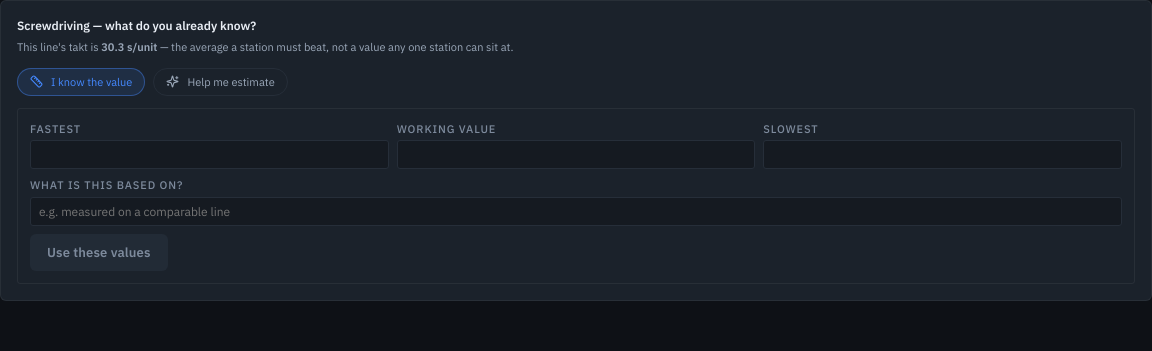
Test: both paths are offered › shows only one route at a time
The image size is (1152, 351).
What coordinates should you click on to do the following:
click the tab with test id "estimate-mode-assist"
I would click on:
 (221, 82)
Its box is [153,68,288,96].
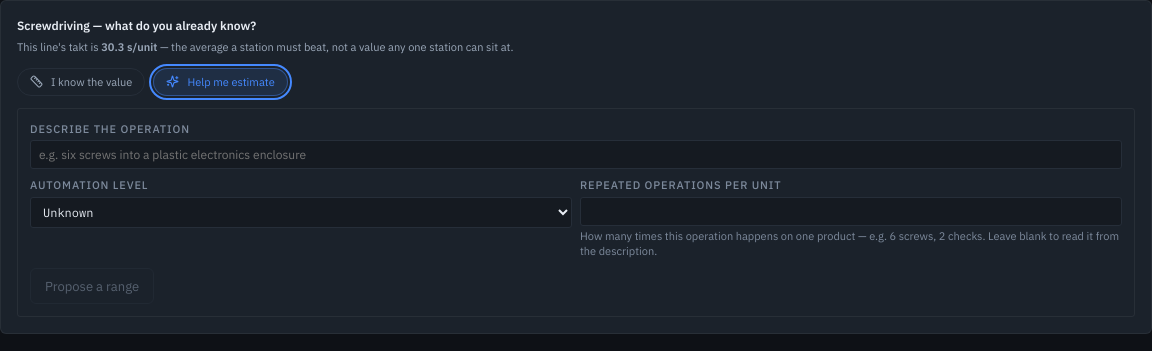
expect the element with test id "estimate-assist-form" is shown: met, box [17,108,1135,317]
What coordinates should you click on to do the following:
click the tab with test id "estimate-mode-known"
I would click on:
 (81, 82)
Its box is [17,68,145,96].
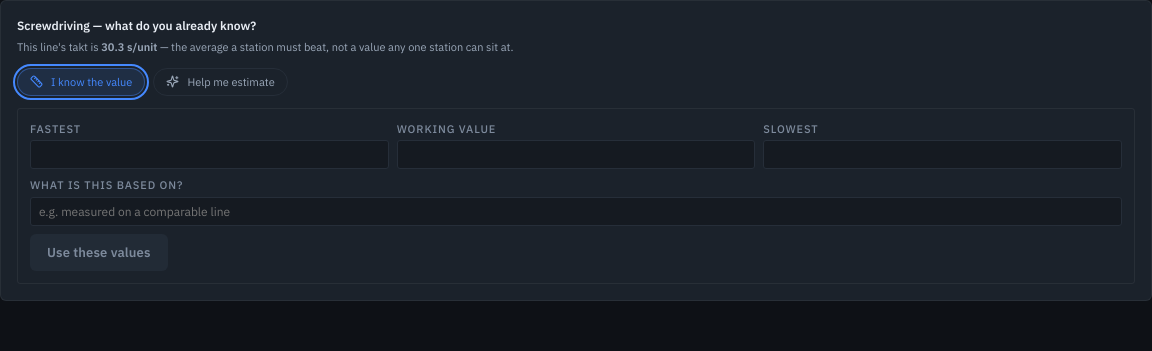
expect the element with test id "estimate-manual" is shown: met, box [17,108,1135,284]
